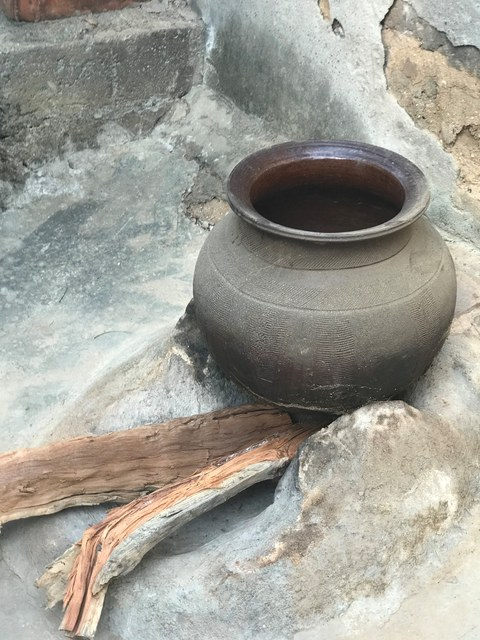Nova Pressure Cooker: (24, 32, 456, 608)
